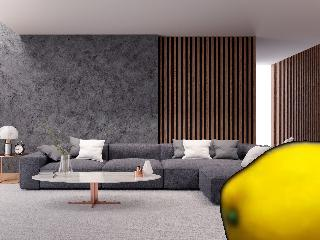lemon: (222, 142, 320, 239)
